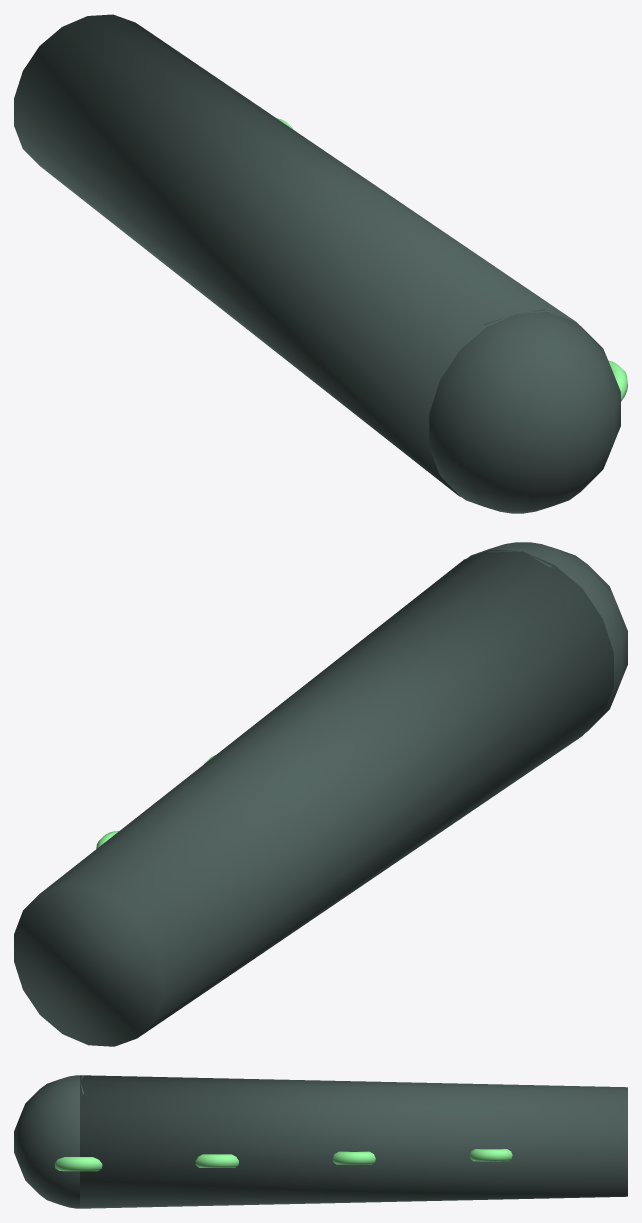
Rendered from seg6.glb.
3 views of the same model, one above another, from view 1: azimuth 30°, elevation 25°; view 2: azimuth 150°, elevation 25°; view 3: azimuth 270°, elevation 25° (orthographic). The views are drawn at different scales.
Visible parts, largest first — view 1: tentacle; view 2: tentacle; view 3: tentacle, sucker.
Part boxes in pixels (<box>): tentacle: <box>14,14,620,513</box>; tentacle: <box>14,542,627,1046</box>; tentacle: <box>14,1075,627,1208</box>; sucker: <box>54,1149,512,1171</box>.
Bounding box in the file's own units: 0.2217 × 0.2078 × 0.9523.
